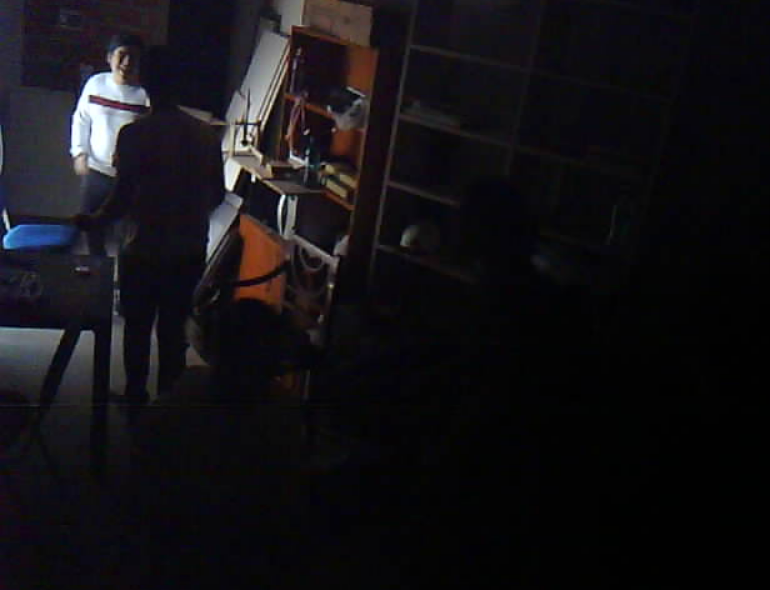person: (113, 43, 232, 430), (53, 20, 144, 206)
